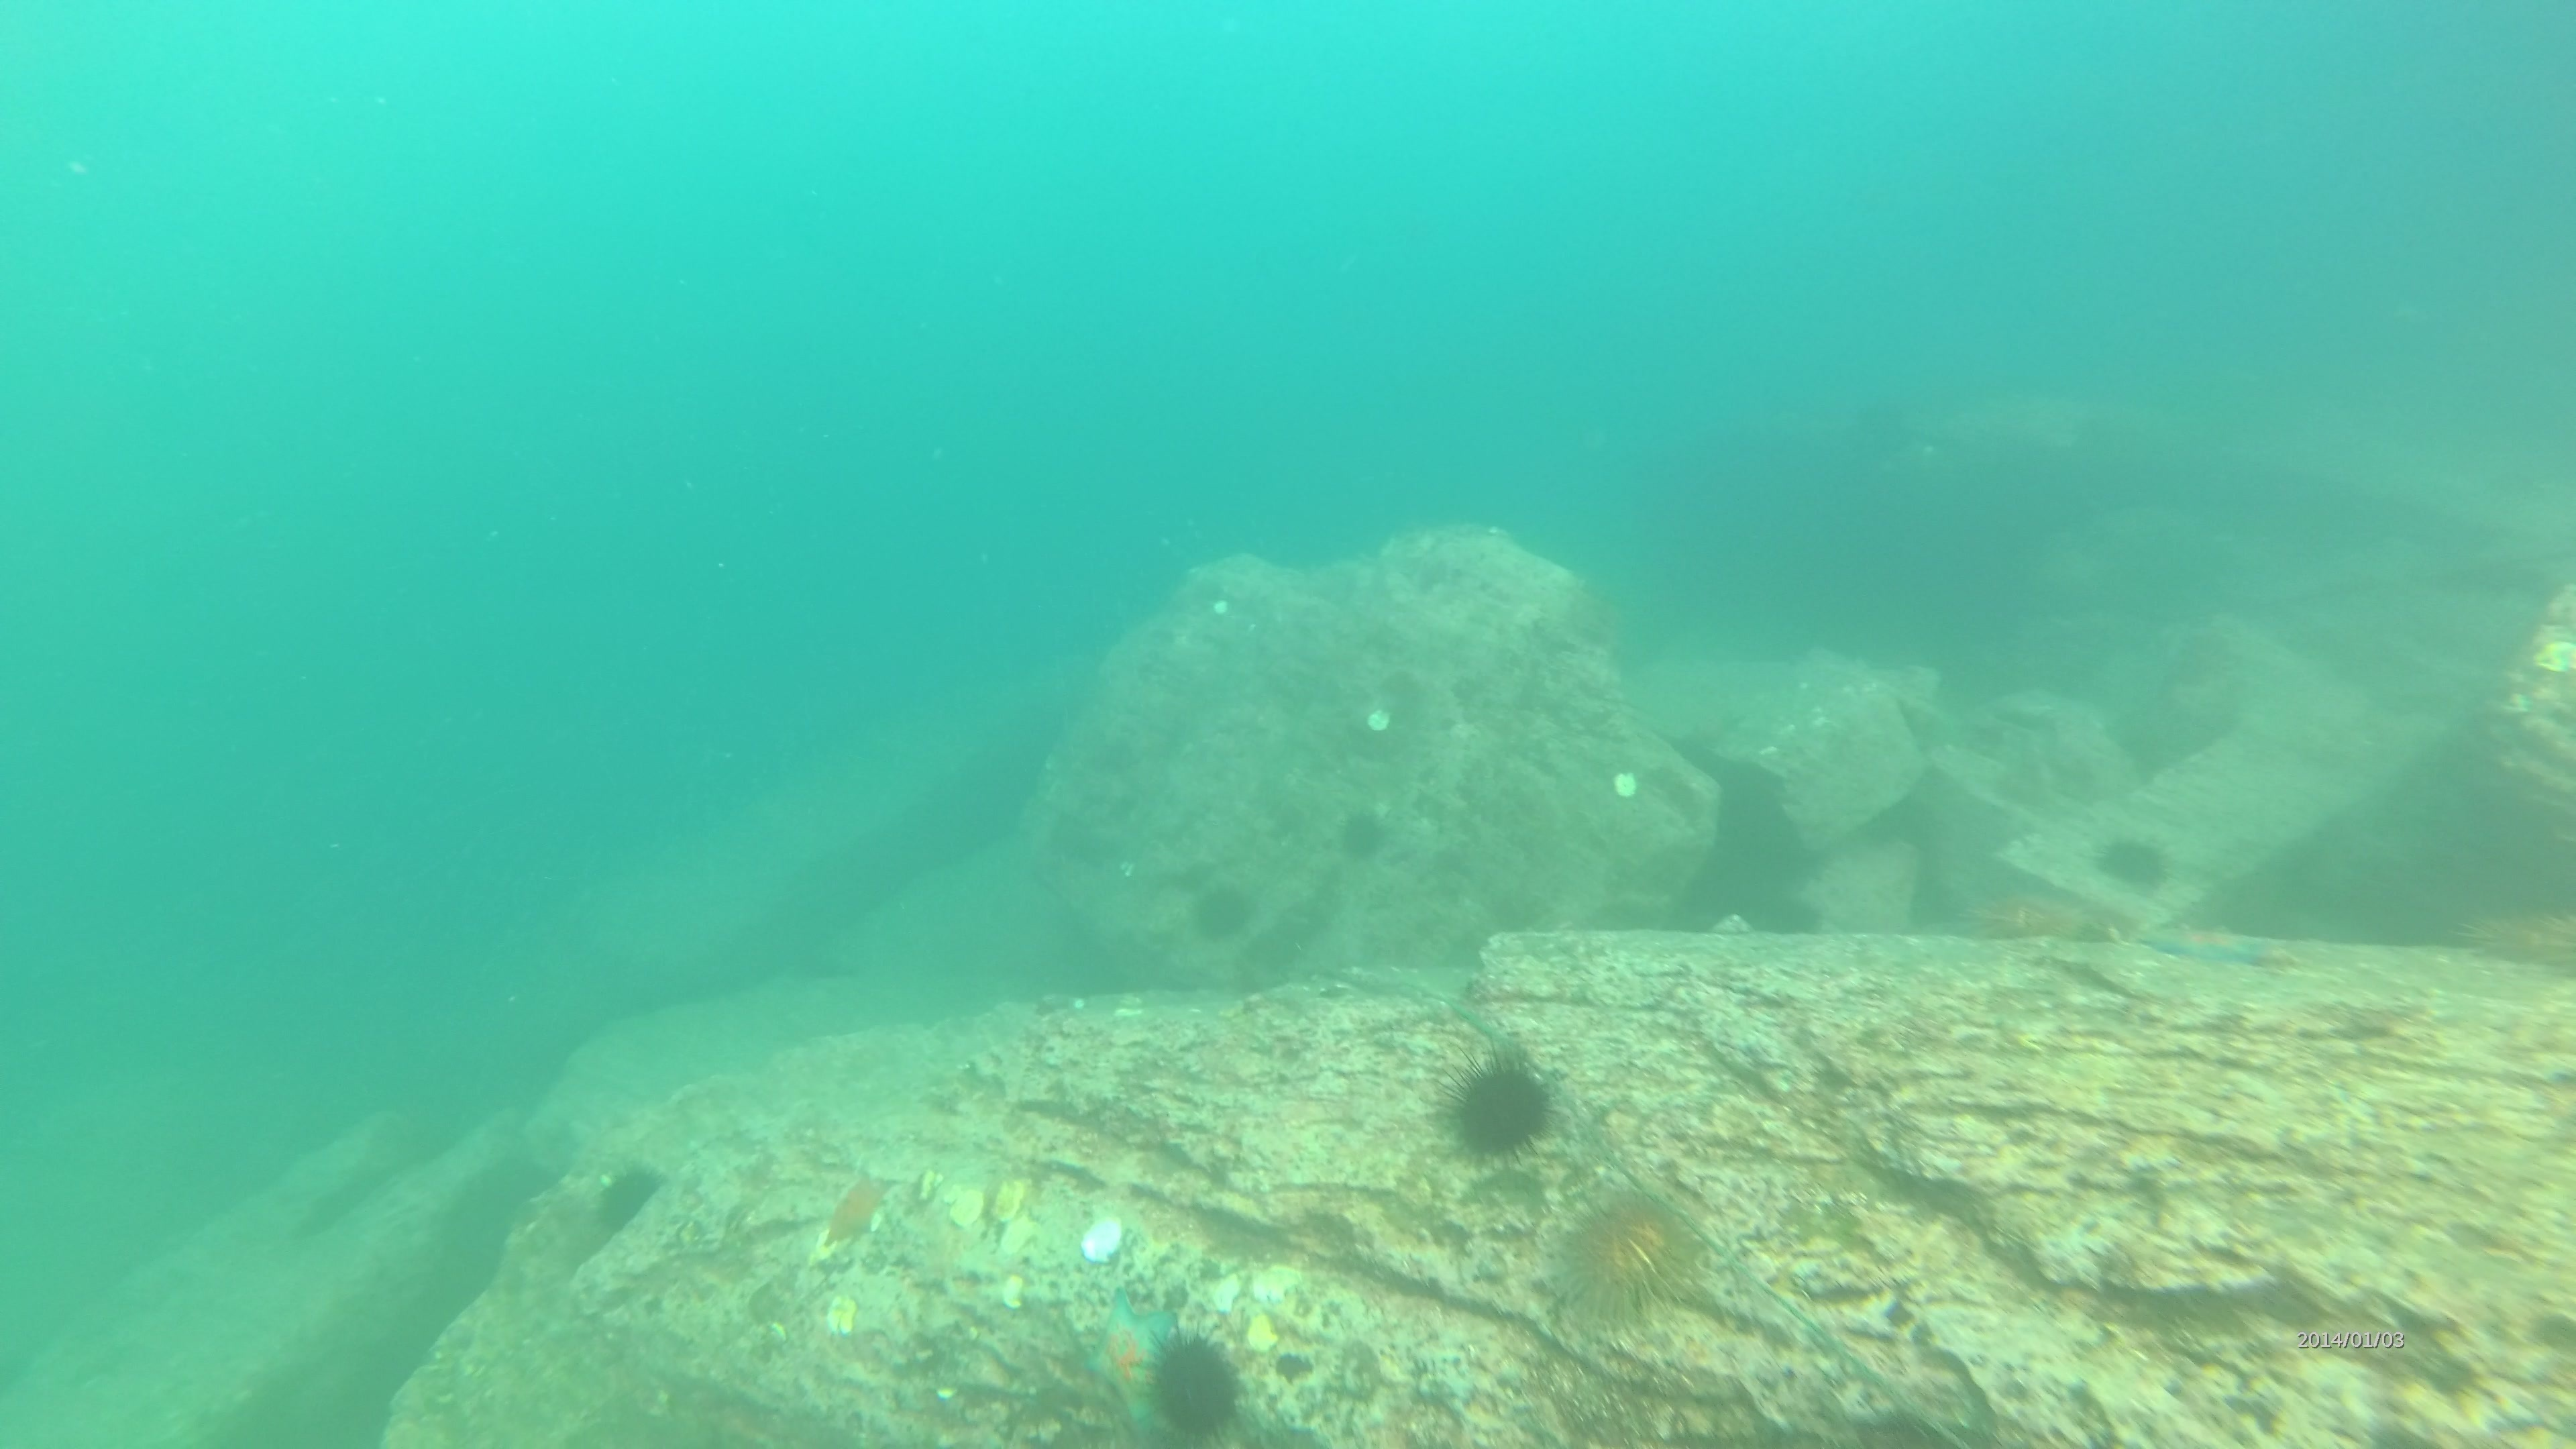echinus: (1552, 1180, 1711, 1327), (1435, 1046, 1562, 1166), (1141, 1327, 1251, 1442), (2459, 893, 2572, 978), (1983, 883, 2079, 955), (587, 1155, 667, 1238), (2091, 826, 2174, 897), (1185, 874, 1260, 948), (1332, 800, 1394, 867)
starfish: (1077, 1286, 1185, 1430), (2139, 915, 2282, 977), (812, 1168, 897, 1253)
